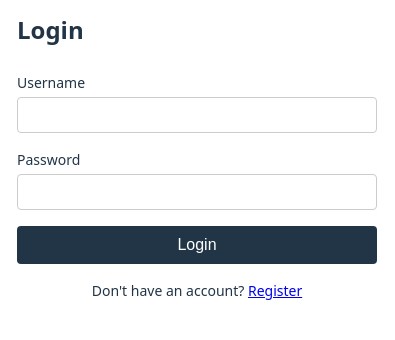
Test: loginPage › shows validation error when password is empty
Type "alice" into the field labelled "Username".
click(197, 115); type("alice")  # box [17,97,377,133]
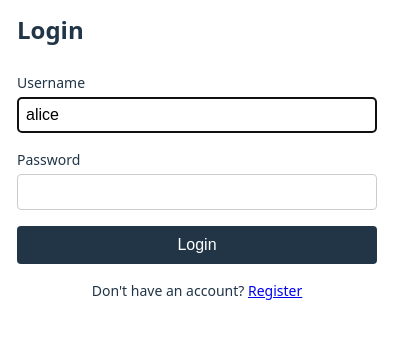
Click the button "Login".
click(197, 245)  # box [17,226,377,264]
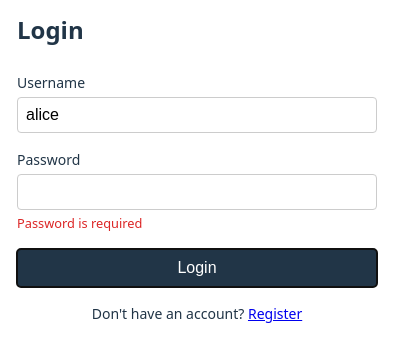
Now the text "Password is required" is shown, box [17,214,142,232]
